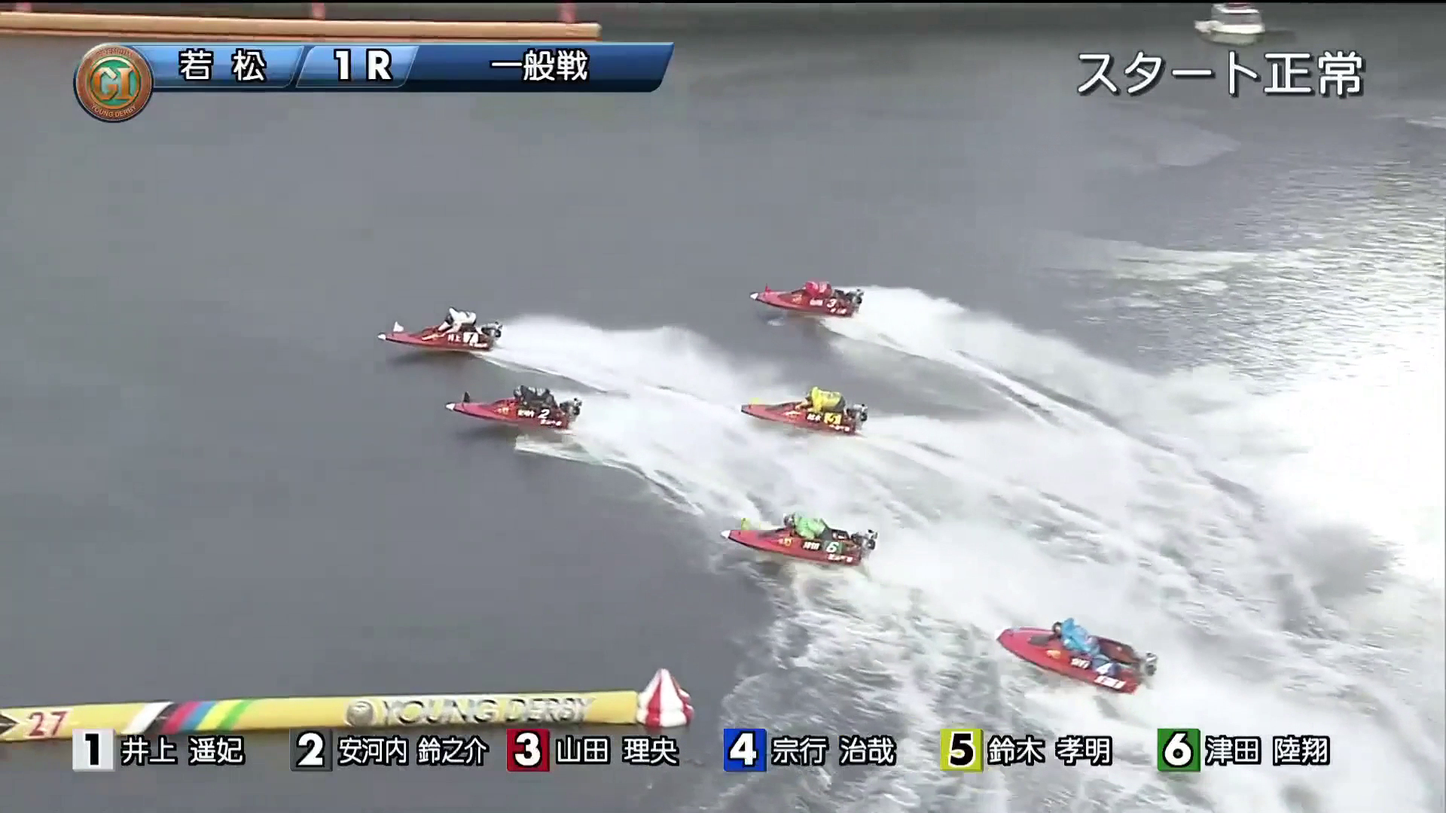１号艇: (387, 275, 457, 328)
２号艇: (425, 370, 554, 431)
３号艇: (768, 255, 866, 313)
４号艇: (741, 495, 875, 561)
５号艇: (1023, 626, 1146, 681)
６号艇: (741, 357, 841, 437)
